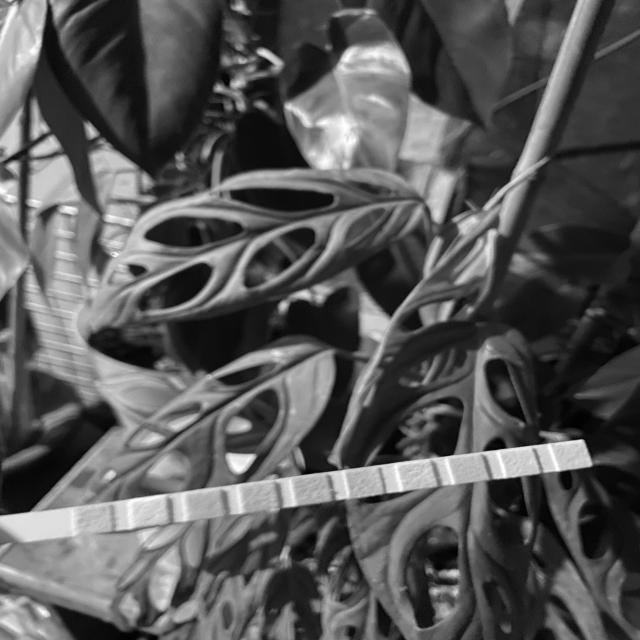Bilirubin: (134, 498, 165, 524)
Blood: (295, 478, 328, 502)
Glucose: (77, 508, 110, 531)
Ketone: (188, 492, 221, 516)
Leukocytes: (561, 443, 585, 468)
Nitrite: (508, 452, 533, 476)
Protein: (403, 463, 431, 487)
SpGravity: (242, 484, 274, 510)
Urobilinogen: (454, 458, 482, 482)
background: (0, 0, 640, 640)
pH: (350, 470, 377, 495)
strip: (0, 440, 594, 545)
